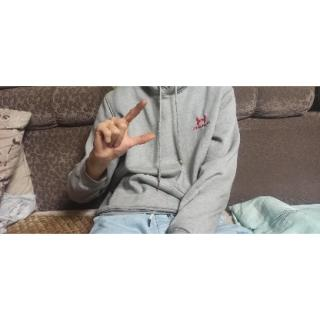LAAM: (84, 97, 160, 164)
